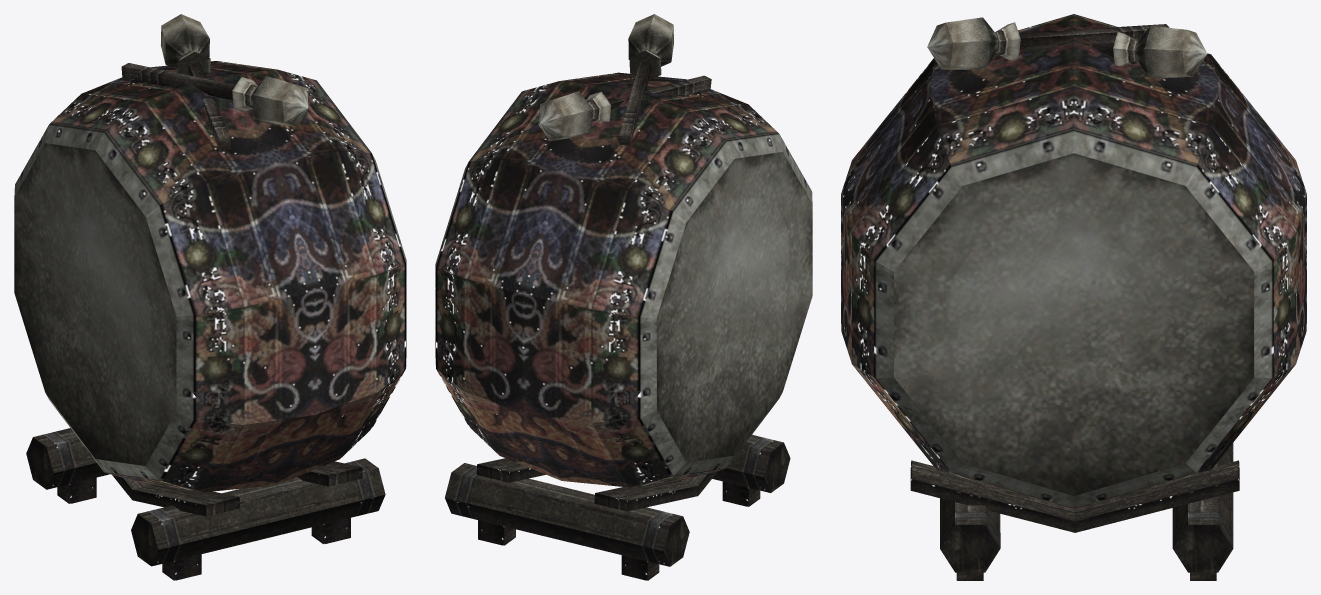
Rendered from ep_general_obj_drum.glb.
The picture shows the model from 3 angles, left to right: view 1: azimuth 30°, elevation 25°; view 2: azimuth 150°, elevation 25°; view 3: azimuth 270°, elevation 25°; orthographic projection. The views are drawn at different scales.
Parts seen in each view (by area): view 1: ep_general_obj_drum; view 2: ep_general_obj_drum; view 3: ep_general_obj_drum.
Part boxes in pixels (x1,y1,x2,y2): ep_general_obj_drum: (14,14,406,580); ep_general_obj_drum: (435,14,812,580); ep_general_obj_drum: (841,14,1306,580).
Bounding box in the file's own units: 0.6397 × 1.25 × 1.01.
Materials: 1 (1 with a texture image).
